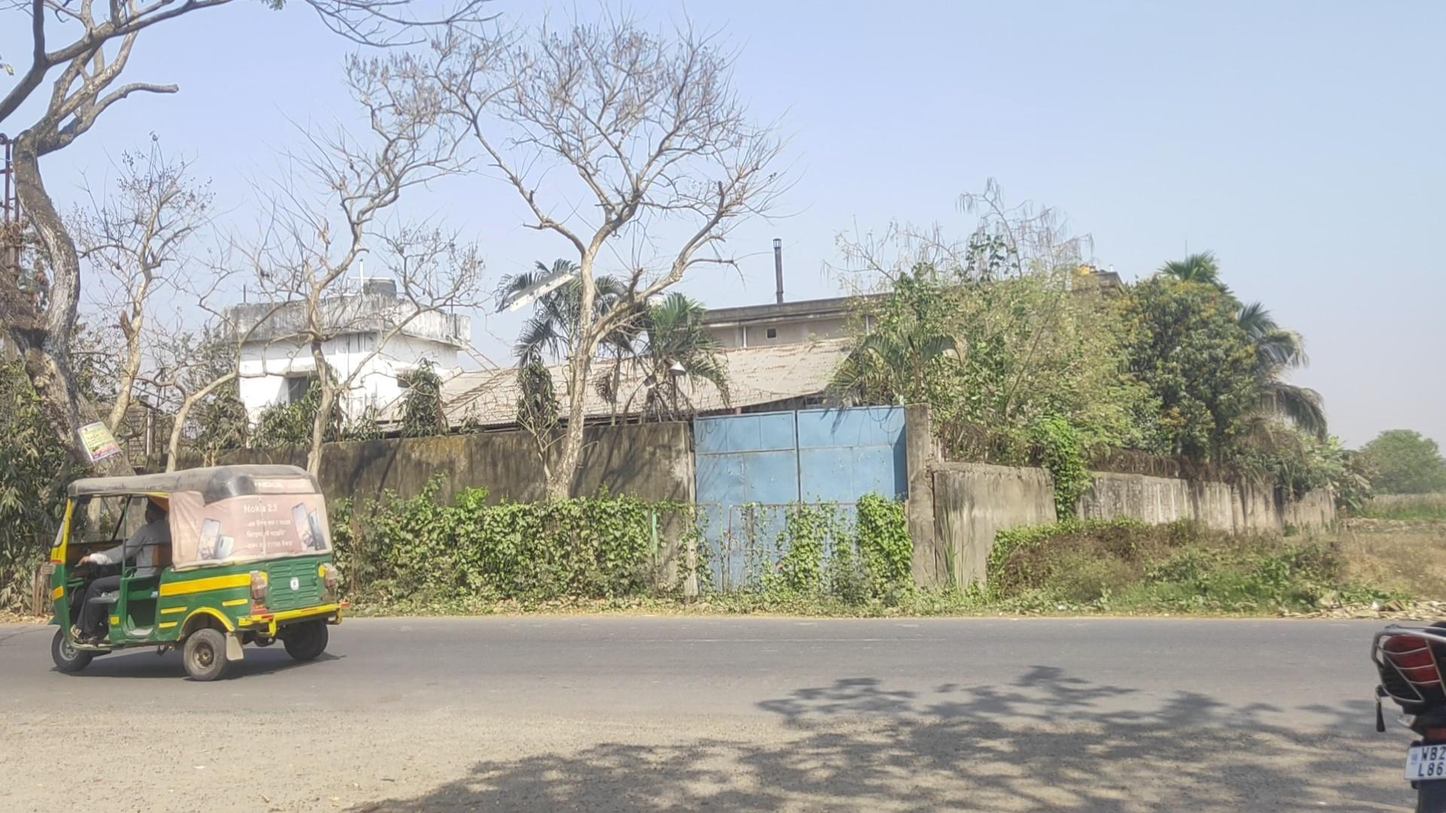Auto: (39, 464, 352, 681)
